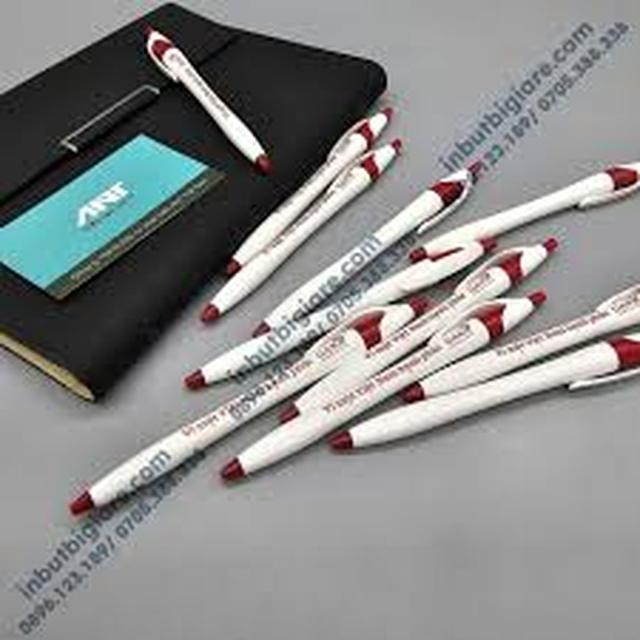pen: (162, 201, 500, 591), (91, 275, 450, 547), (268, 227, 571, 514), (298, 258, 541, 476), (413, 296, 640, 515), (206, 106, 387, 314), (343, 366, 640, 484), (224, 133, 417, 302), (291, 150, 498, 300), (138, 26, 268, 177), (466, 134, 630, 240)
